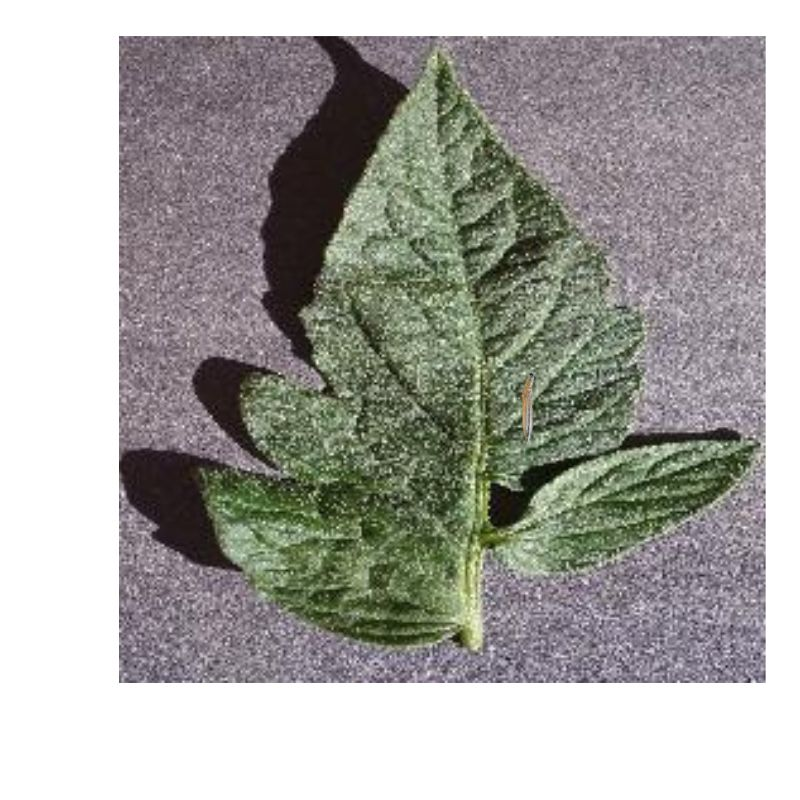thrips: (518, 370, 538, 443)
